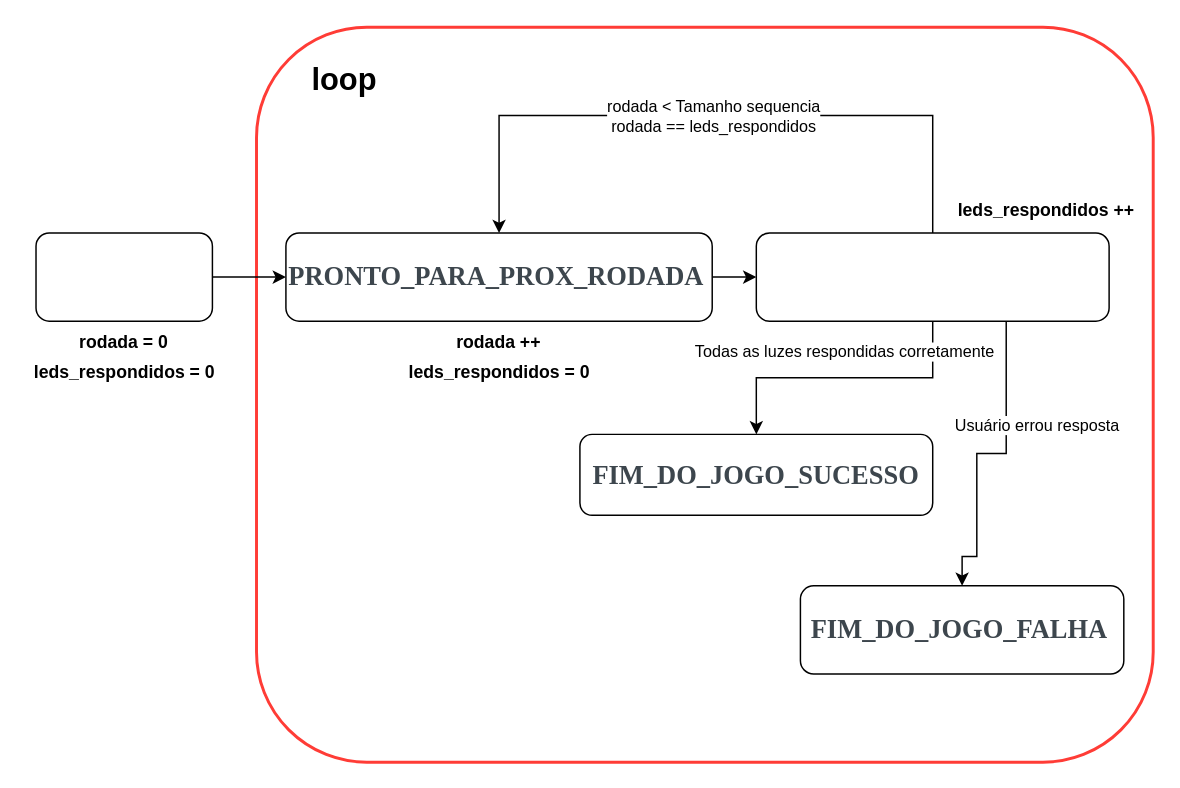
This 1180x788 diagram has some shape labels left out. Here are the shapes that lost their labels. From the top down, the centre of each, then its label:
At pixel 123 276: "SETUP".
At pixel 932 276: "USUARIO_RESPONDENDO".
